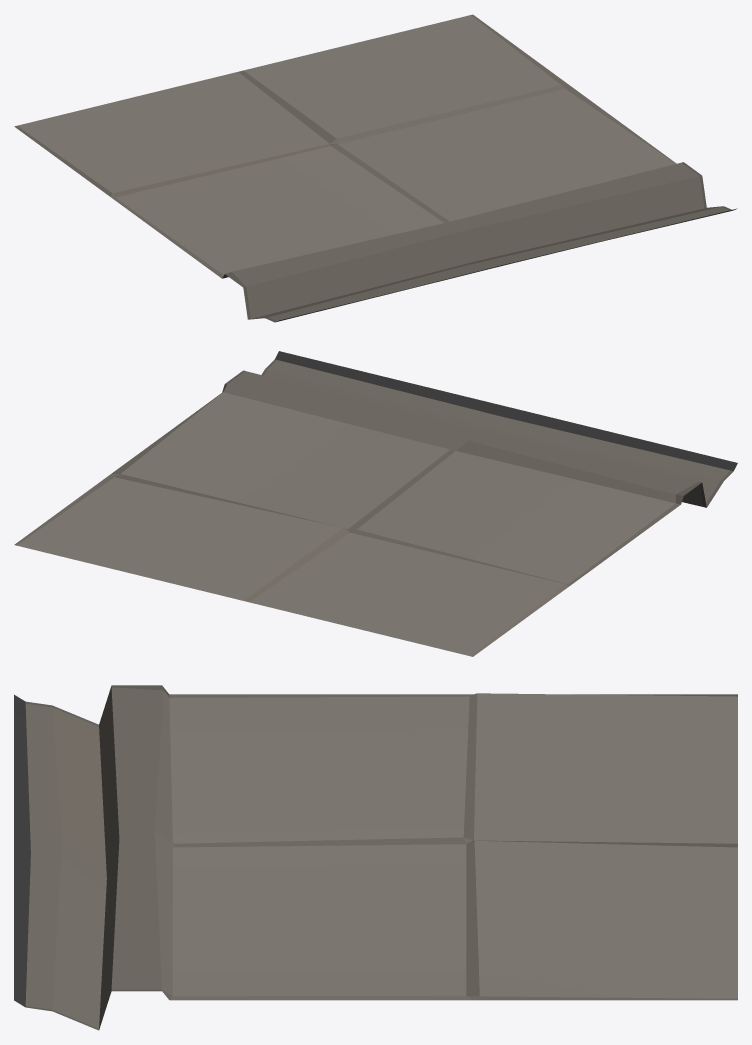
The model's file is SM_Env_Sidewalk_Straight_02.obj.
The picture shows the model from 3 angles, top to bottom: view 1: azimuth 30°, elevation 25°; view 2: azimuth 150°, elevation 25°; view 3: azimuth 270°, elevation 25°; orthographic projection. The views are drawn at different scales.
Visible parts, largest first — view 1: SM_Env_Sidewalk_Straight_02_0; view 2: SM_Env_Sidewalk_Straight_02_0; view 3: SM_Env_Sidewalk_Straight_02_0.
Boxes of the visible parts, x1,y1,x2,y2 form: SM_Env_Sidewalk_Straight_02_0: (14,14,737,322); SM_Env_Sidewalk_Straight_02_0: (14,351,737,656); SM_Env_Sidewalk_Straight_02_0: (14,685,737,1030).
Size of the model in its own units: 5 by 0.3 by 5.
1 material, 1 textured.
